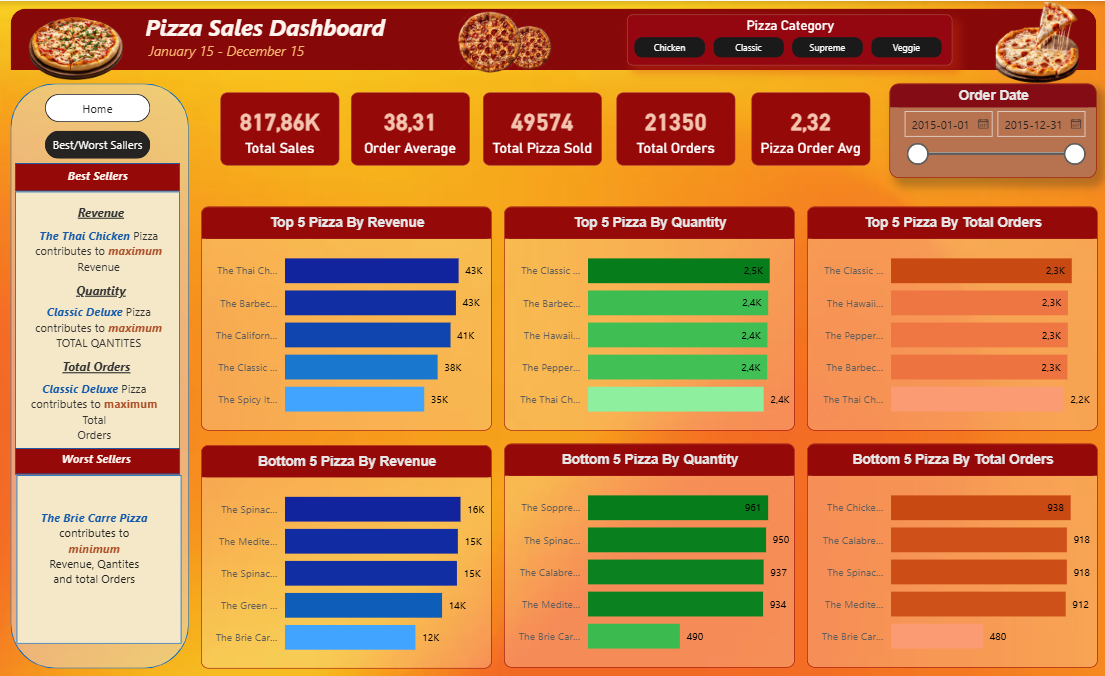

Layout of this report page (visuals, bound fields, positions):
{"tool":"powerbi","page":{"name":"Best/Worst Sallers","canvas":[1304,800],"ordinal":1},"visuals":[{"type":"shape","box":[12.4,8.8,1279.6,72.5],"z":0},{"type":"image","box":[592.1,28.3,61.9,54.8],"z":1000},{"type":"image","box":[14.3,14.3,151.1,82.7],"z":2000},{"type":"image","box":[1139.9,0,164.4,97.2],"z":3000},{"type":"textbox","box":[165.4,8,357.9,71.6],"z":4000},{"type":"advancedSlicerVisual","title":"Pizza Category","fields":{"Values":["Dim_Pizza.pizza_category"]},"box":[738.8,15.9,383.5,60.1],"z":5000},{"type":"card","fields":{"Values":["mesures.Total Sales"]},"box":[259.7,108.6,140,85.9],"z":6000},{"type":"card","fields":{"Values":["mesures.Order Average"]},"box":[413.5,108.6,140,85.9],"z":7000},{"type":"card","fields":{"Values":["mesures.Total Pizza Sold"]},"box":[569.4,108.6,140,85.9],"z":8000},{"type":"card","fields":{"Values":["mesures.Total Orders"]},"box":[726.9,108.6,140,85.9],"z":9000},{"type":"card","fields":{"Values":["mesures.Pizza Order Avg"]},"box":[885.9,108.6,140,85.9],"z":10000},{"type":"slicer","title":"Order Date","fields":{"Values":["Dim_Date.order_date"]},"box":[1048,97.2,243.9,111.3],"z":11000},{"type":"shape","box":[12.4,97.2,210.3,689.3],"z":12000},{"type":"image","box":[530.2,10.6,91.9,77.8],"z":13000},{"type":"clusteredBarChart","title":"Top 5 Pizza By Revenue","fields":{"Y":["Divide(mesures.Total Sales, ScopedEval(mesures.Total Sales, []))"],"Category":["Dim_Pizza.pizza_name"]},"box":[236.8,242.6,342.7,263.8],"z":14000},{"type":"clusteredBarChart","title":"Bottom 5 Pizza By Revenue","fields":{"Y":["Divide(mesures.Total Sales, ScopedEval(mesures.Total Sales, []))"],"Category":["Dim_Pizza.pizza_name"]},"box":[236.8,523.1,342.9,263.3],"z":15000},{"type":"clusteredBarChart","title":"Top 5 Pizza By Quantity","fields":{"Category":["Dim_Pizza.pizza_name"],"Y":["Sum(Fact_Sales.quantity)"]},"box":[593,242.6,342.7,263.8],"z":16000},{"type":"clusteredBarChart","title":"Bottom 5 Pizza By Quantity","fields":{"Category":["Dim_Pizza.pizza_name"],"Y":["Sum(Fact_Sales.quantity)"]},"box":[593,521.7,342.7,263.8],"z":17000},{"type":"clusteredBarChart","title":"Top 5 Pizza By Total Orders","fields":{"Category":["Dim_Pizza.pizza_name"],"Y":["mesures.Total Orders"]},"box":[951.1,242.6,342.7,263.8],"z":18000},{"type":"clusteredBarChart","title":"Bottom 5 Pizza By Total Orders","fields":{"Category":["Dim_Pizza.pizza_name"],"Y":["mesures.Total Orders"]},"box":[951.1,521.7,342.7,263.8],"z":19000},{"type":"pageNavigator","box":[52.2,108.9,124.4,76.7],"z":20000},{"type":"shape","box":[18.5,190.3,194.4,33.6],"z":21000},{"type":"shape","box":[18.5,224.4,194.4,308.9],"z":22000},{"type":"textbox","box":[48.9,234.1,138.9,33.3],"z":23000},{"type":"textbox","box":[24.4,260.7,183.3,66.7],"z":24000},{"type":"textbox","box":[46.7,191.1,138.9,33.3],"z":25000},{"type":"textbox","box":[49.3,324.8,138.9,33.3],"z":26000},{"type":"textbox","box":[24.8,351.5,183.3,66.7],"z":27000},{"type":"textbox","box":[44.8,415.2,138.9,33.3],"z":28000},{"type":"textbox","box":[20,441.9,183.3,101.1],"z":29000},{"type":"shape","box":[18.5,526.7,194.4,31.1],"z":30000},{"type":"shape","box":[18.9,558.9,194.4,198.9],"z":31000},{"type":"textbox","box":[44.4,525.6,138.9,33.3],"z":31001},{"type":"textbox","box":[18.9,593.3,183.3,107.8],"z":31002}]}

Visuals, with their boxes in screenshot pixels (x1, y1, x2, y2), scaled from the page's 1304x800 canvas onto the 1105x676 screenshot:
shape: box(11, 7, 1095, 69)
image: box(502, 24, 554, 70)
image: box(12, 12, 140, 82)
image: box(966, 0, 1104, 82)
textbox: box(140, 7, 443, 67)
"Pizza Category" advancedSlicerVisual: box(626, 13, 951, 64)
card - mesures.Total Sales: box(220, 92, 339, 164)
card - mesures.Order Average: box(350, 92, 469, 164)
card - mesures.Total Pizza Sold: box(483, 92, 601, 164)
card - mesures.Total Orders: box(616, 92, 735, 164)
card - mesures.Pizza Order Avg: box(751, 92, 869, 164)
"Order Date" slicer: box(888, 82, 1095, 176)
shape: box(11, 82, 189, 665)
image: box(449, 9, 527, 75)
"Top 5 Pizza By Revenue" clusteredBarChart: box(201, 205, 491, 428)
"Bottom 5 Pizza By Revenue" clusteredBarChart: box(201, 442, 491, 665)
"Top 5 Pizza By Quantity" clusteredBarChart: box(503, 205, 793, 428)
"Bottom 5 Pizza By Quantity" clusteredBarChart: box(503, 441, 793, 664)
"Top 5 Pizza By Total Orders" clusteredBarChart: box(806, 205, 1096, 428)
"Bottom 5 Pizza By Total Orders" clusteredBarChart: box(806, 441, 1096, 664)
pageNavigator: box(44, 92, 150, 157)
shape: box(16, 161, 180, 189)
shape: box(16, 190, 180, 451)
textbox: box(41, 198, 159, 226)
textbox: box(21, 220, 176, 277)
textbox: box(40, 161, 157, 190)
textbox: box(42, 274, 159, 303)
textbox: box(21, 297, 176, 353)
textbox: box(38, 351, 156, 379)
textbox: box(17, 373, 172, 459)
shape: box(16, 445, 180, 471)
shape: box(16, 472, 181, 640)
textbox: box(38, 444, 155, 472)
textbox: box(16, 501, 171, 592)
